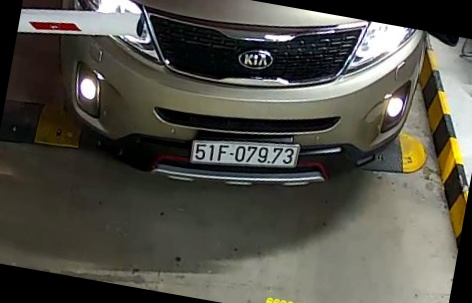plate: (187, 133, 308, 181)
